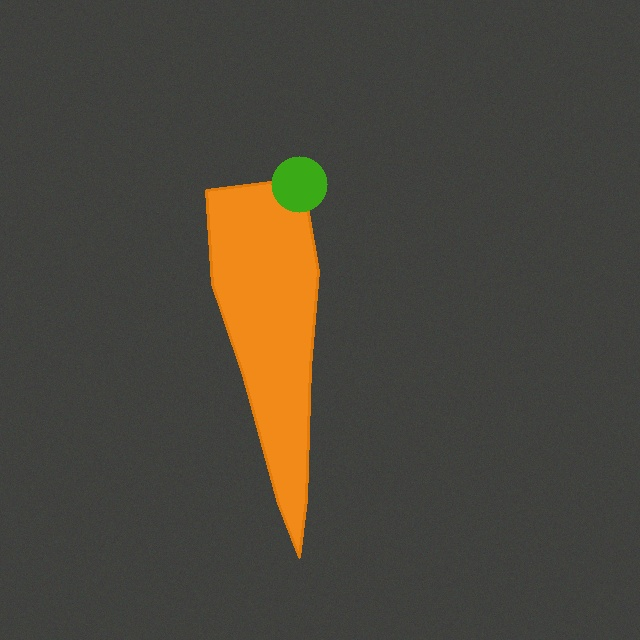Good_Carrot: (198, 170, 326, 565)
